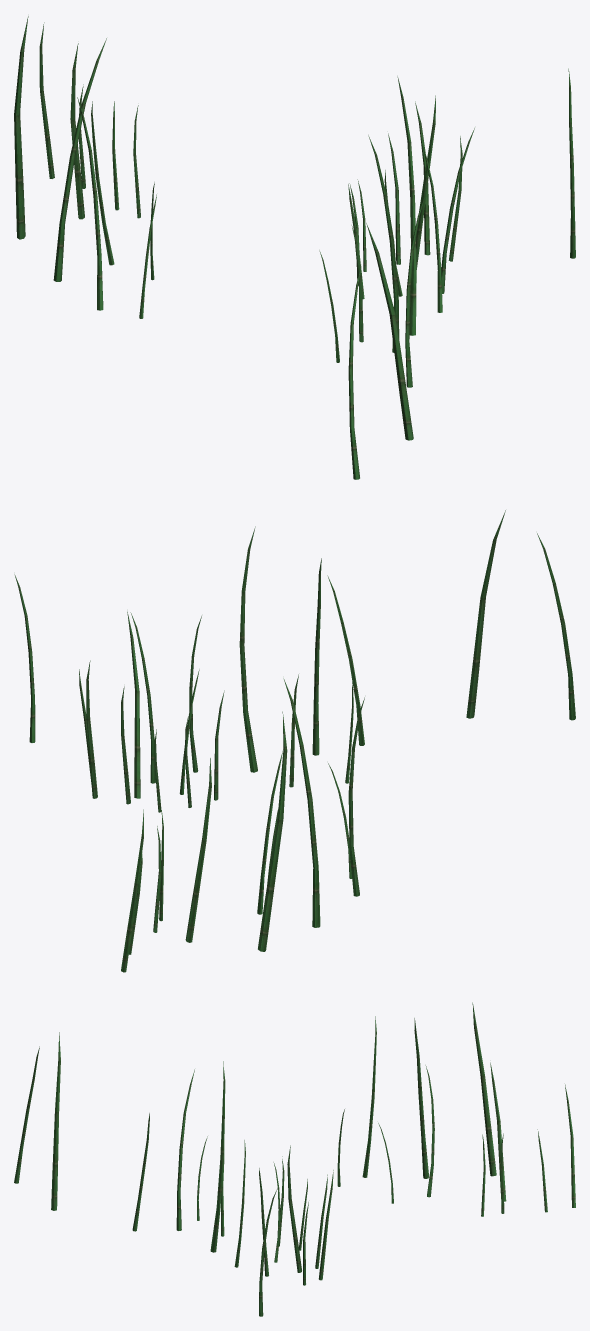
Rendered from Area_13_44.fbx.
3 renders of one model, top to bottom at view 1: azimuth 30°, elevation 25°; view 2: azimuth 150°, elevation 25°; view 3: azimuth 270°, elevation 25°, orthographic. The views are drawn at different scales.
Visible parts, largest first — view 1: Area_13_44; view 2: Area_13_44; view 3: Area_13_44.
Boxes of the visible parts, <box> form: Area_13_44: <box>14,16,575,479</box>; Area_13_44: <box>14,510,575,972</box>; Area_13_44: <box>14,1002,575,1316</box>.
Size of the model in its own units: 3207 by 1864 by 5020.
